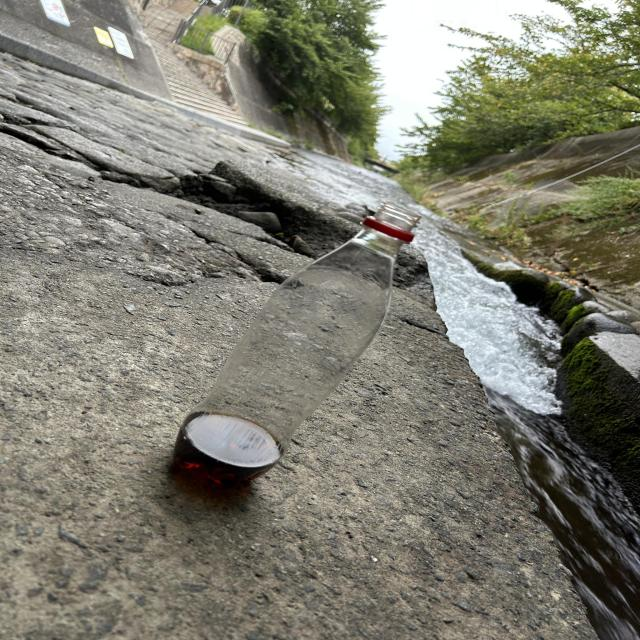low: (174, 203, 419, 486)
